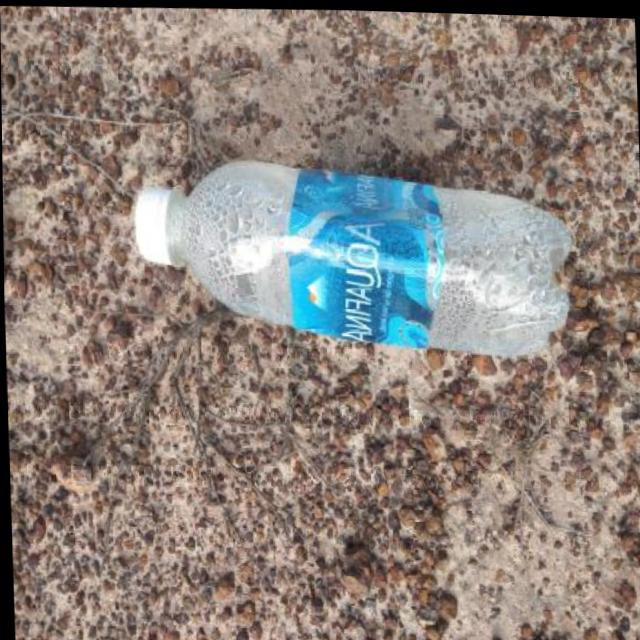plastic: (129, 148, 575, 370)
